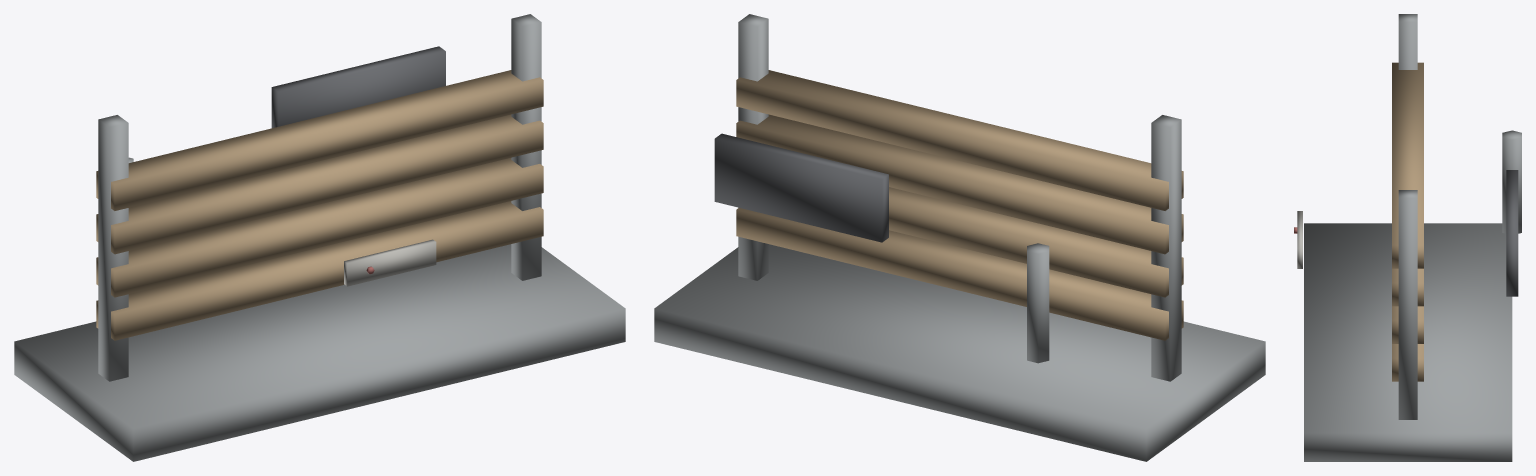
File: lumber_cart__service.glb
The picture shows the model from 3 angles, left to right: view 1: azimuth 30°, elevation 25°; view 2: azimuth 150°, elevation 25°; view 3: azimuth 270°, elevation 25°; orthographic projection. The views are drawn at different scales.
Visible parts, largest first — view 1: world; view 2: world; view 3: world.
Boxes of the visible parts, x1,y1,x2,y2 form: world: (14, 14, 625, 461); world: (654, 14, 1265, 461); world: (1294, 14, 1521, 461).
Bounding box in the file's own units: 1.55 × 0.865 × 0.7113.
